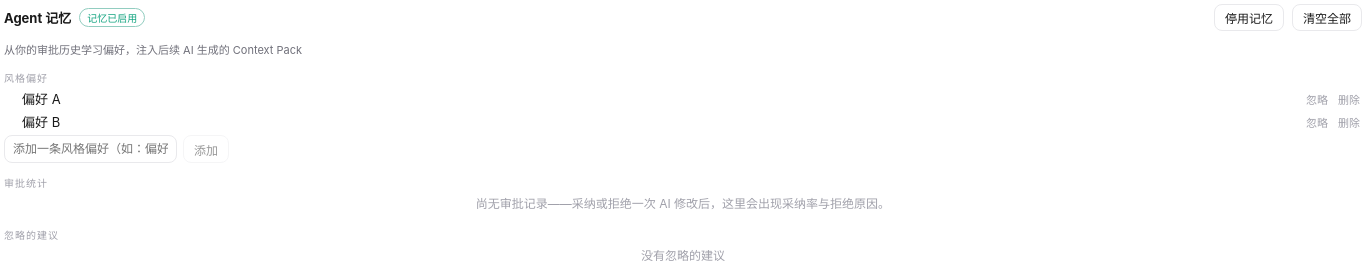
Test: MemoryPanel 空态与三区渲染 › 删除风格偏好：store 同步移除
This screenshot has width=1366, height=278.
Click the button "删除" in the row of "偏好 A".
click(1349, 99)  # box [1336, 91, 1362, 107]
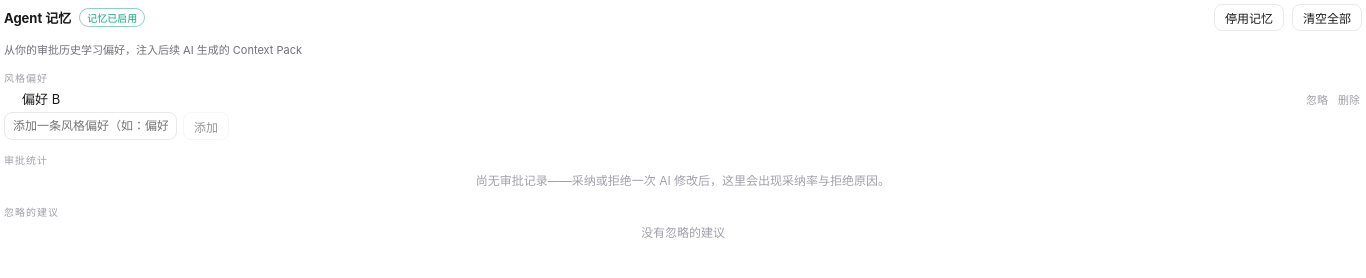
Now the text "偏好 A" is gone
